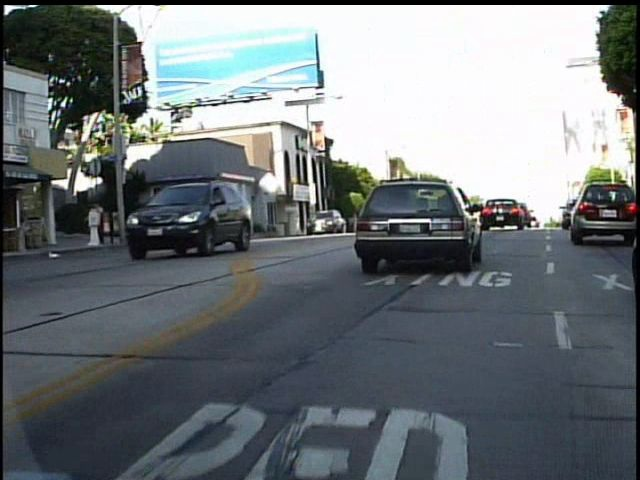person: (95, 193, 118, 250)
